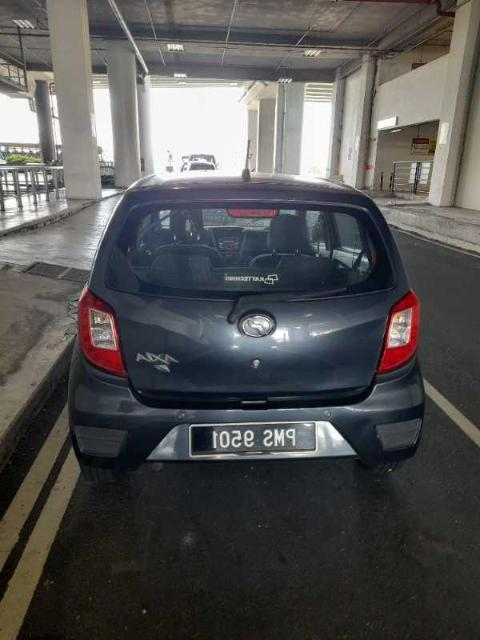License_Plate: (189, 422, 318, 457)
car: (68, 169, 427, 476)
